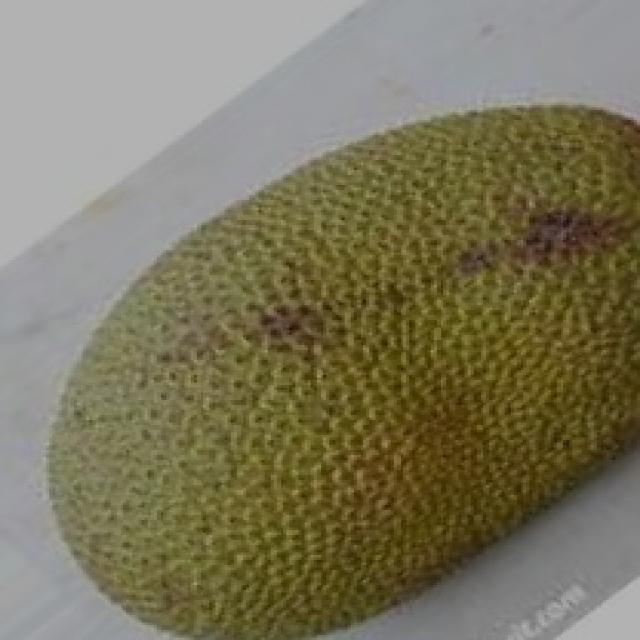Fruit: (12, 232, 410, 638), (264, 260, 640, 637), (215, 90, 640, 382)
